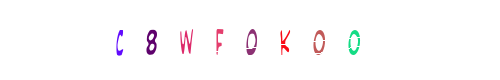0: (244, 0, 324, 80), (314, 0, 394, 80)
8: (111, 0, 191, 80)
C: (79, 0, 159, 80)
F: (187, 0, 267, 80)
K: (210, 0, 290, 80)
O: (210, 0, 290, 80)
W: (182, 0, 262, 80)
